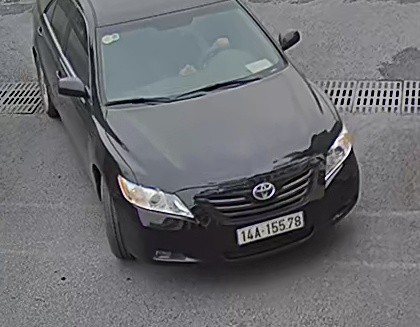vehicle plate: (233, 208, 316, 247)
